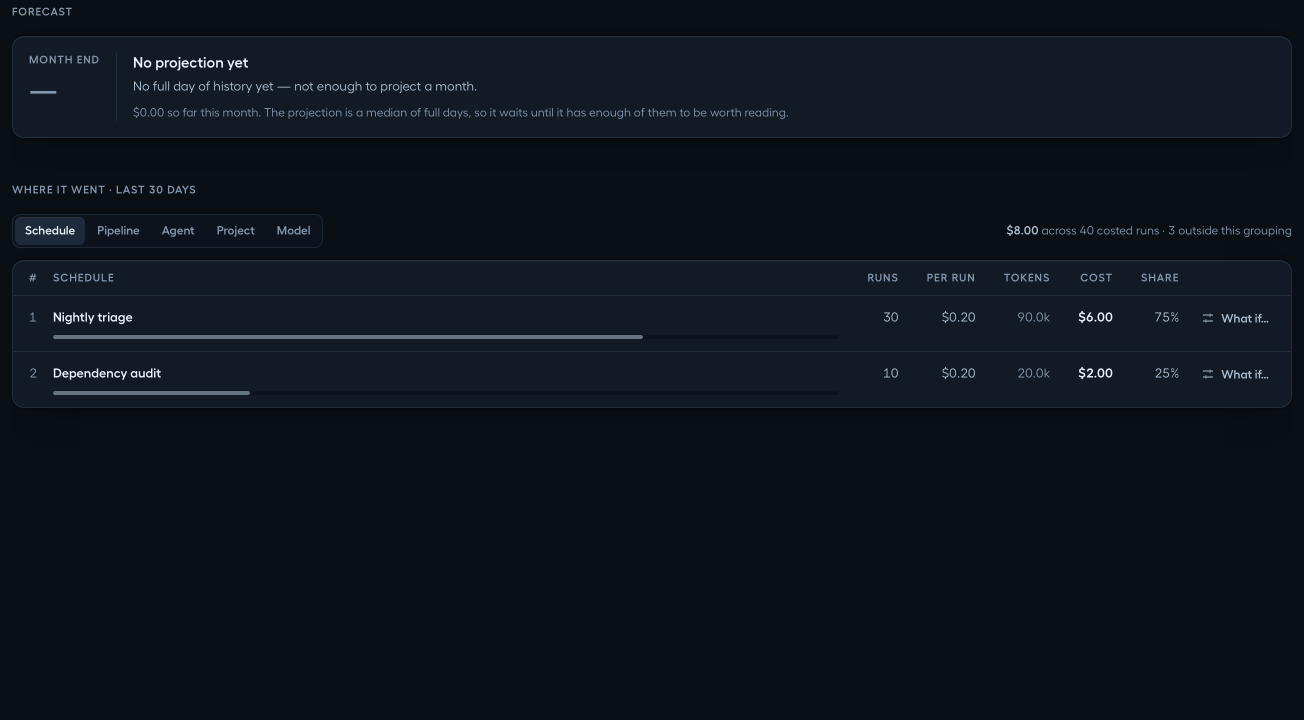
LedgerPanels › a failed request surfaces the server's message as an alert
Click the button "What if…" in the row of "Nightly triage" at x=1235, y=318, box x1=1191 y1=304 x2=1279 y2=332
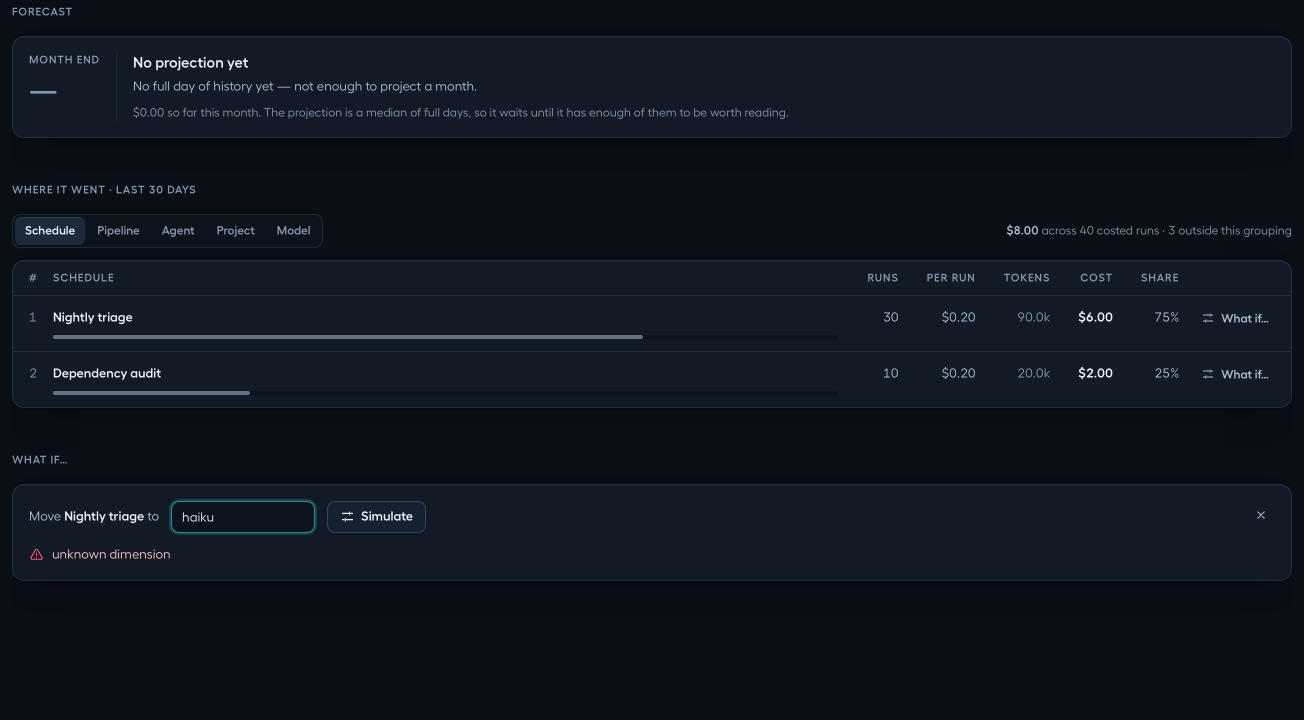
Expected: the message reads "unknown dimension", x1=52 y1=547 x2=171 y2=560
